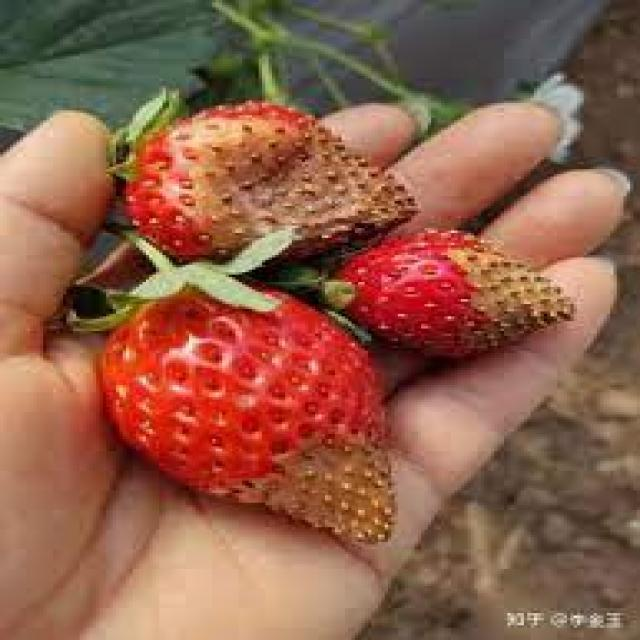Podredumbre de cuero: (114, 289, 422, 552), (104, 109, 431, 252), (346, 224, 594, 345)
